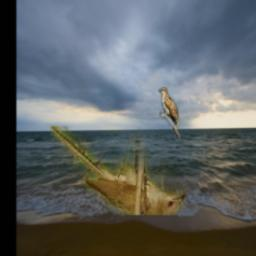Cuckoo: (50, 127, 185, 216), (159, 88, 185, 139)
